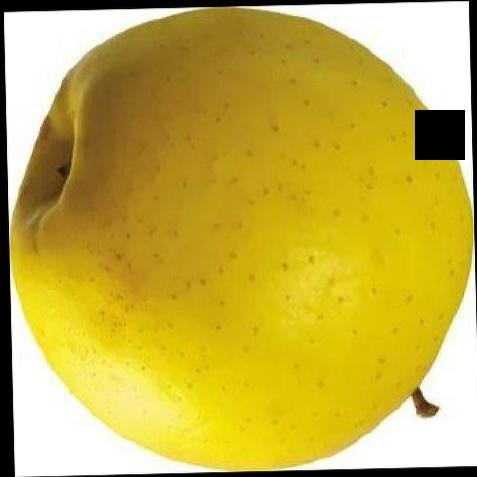green apple: (9, 6, 467, 469)
